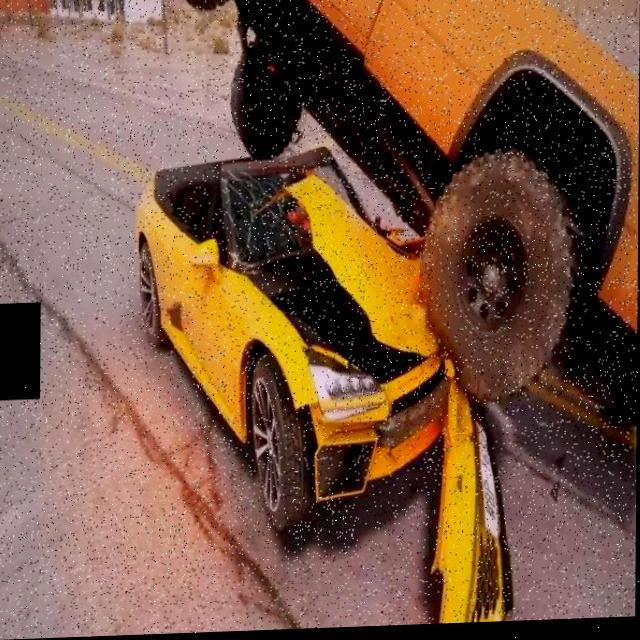multiple_accident: (67, 16, 640, 516)
